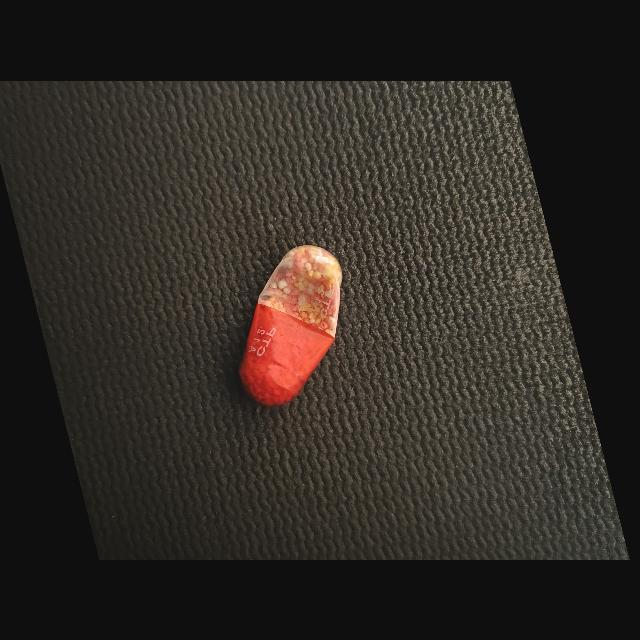Defective Capsule: (239, 244, 342, 405)
